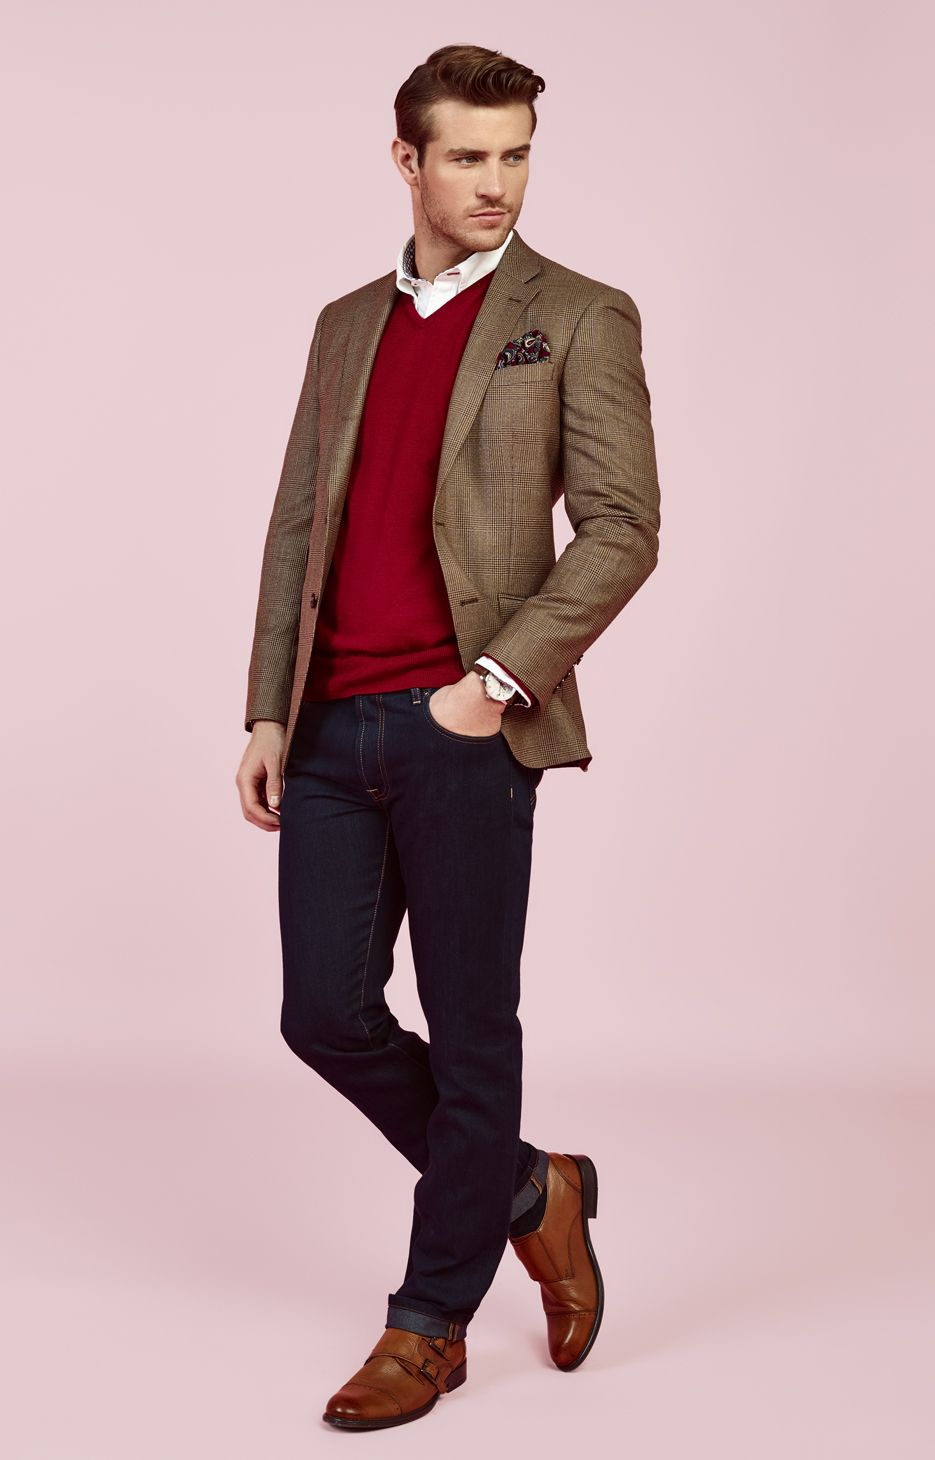NOTSAFE: (291, 40, 579, 699)
